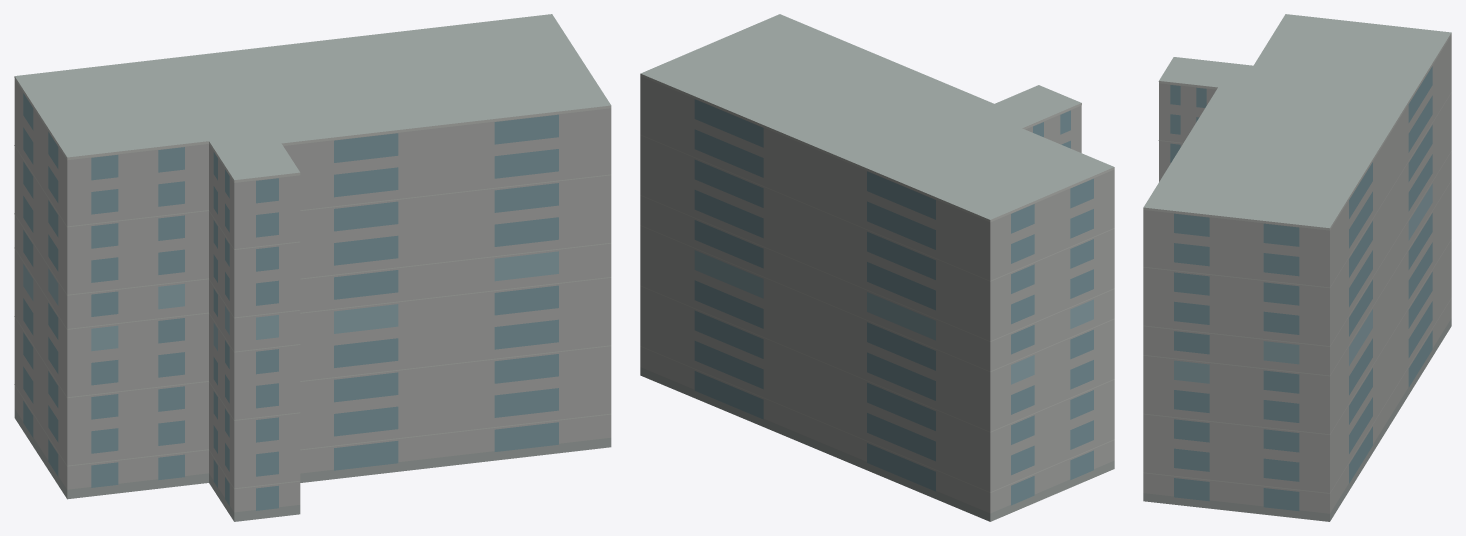
File: residential-03c777f6-5521-4a59-a761-399bbb7384b4.glb
3 renders of one model, left to right at view 1: azimuth 30°, elevation 25°; view 2: azimuth 150°, elevation 25°; view 3: azimuth 270°, elevation 25°, orthographic. The views are drawn at different scales.
Visible parts, largest first — view 1: residential-03c777f6-5521-4a59-a761-399bbb7384b4.tmp; view 2: residential-03c777f6-5521-4a59-a761-399bbb7384b4.tmp; view 3: residential-03c777f6-5521-4a59-a761-399bbb7384b4.tmp.
Boxes of the visible parts, x1,y1,x2,y2 form: residential-03c777f6-5521-4a59-a761-399bbb7384b4.tmp: [14, 14, 611, 521]; residential-03c777f6-5521-4a59-a761-399bbb7384b4.tmp: [640, 14, 1114, 521]; residential-03c777f6-5521-4a59-a761-399bbb7384b4.tmp: [1143, 14, 1451, 521].
Size of the model in its own units: 47.73 by 30.5 by 29.04.
